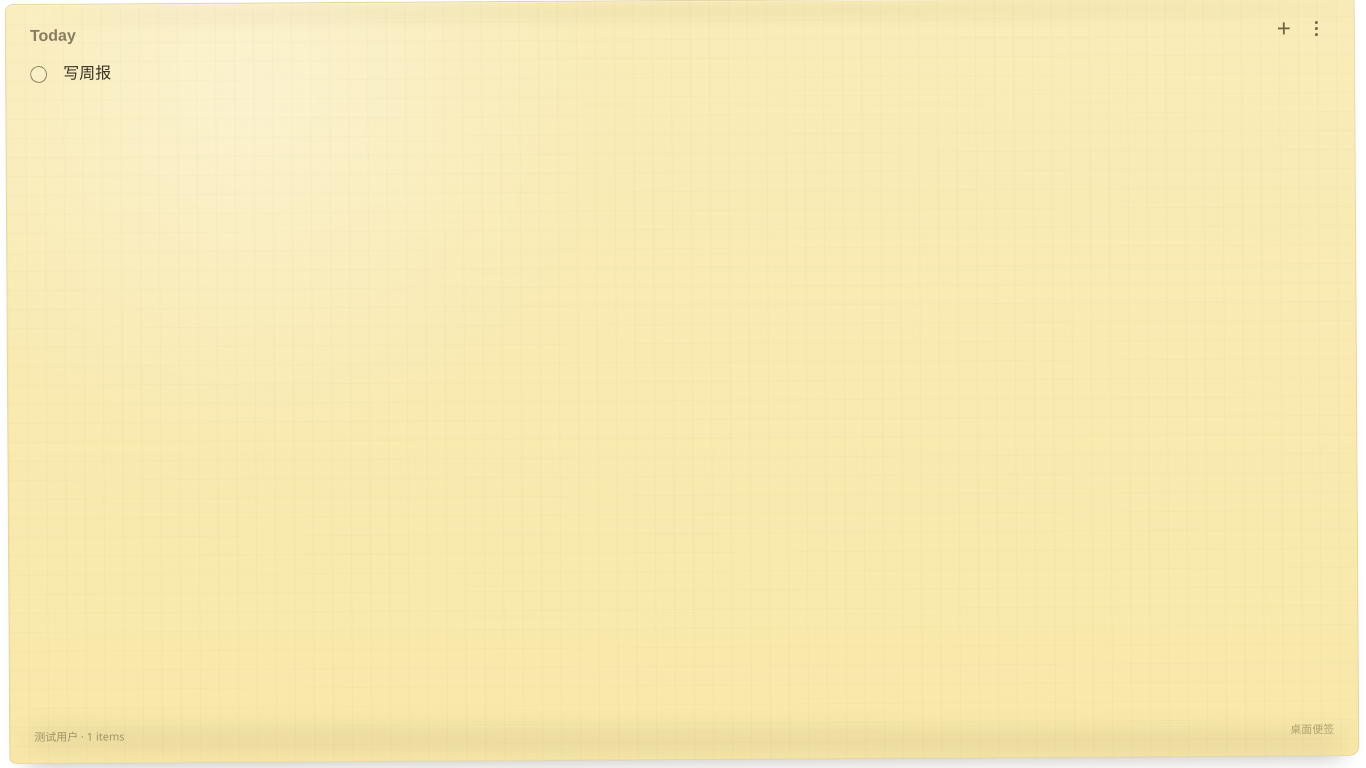
Test: 桌面便签核心交互 › 任务详情默认收起编辑与进度，点击操作按钮后展开
This screenshot has width=1366, height=768.
Click the button with class "task-main": [87, 73] box [63, 55, 1330, 90]
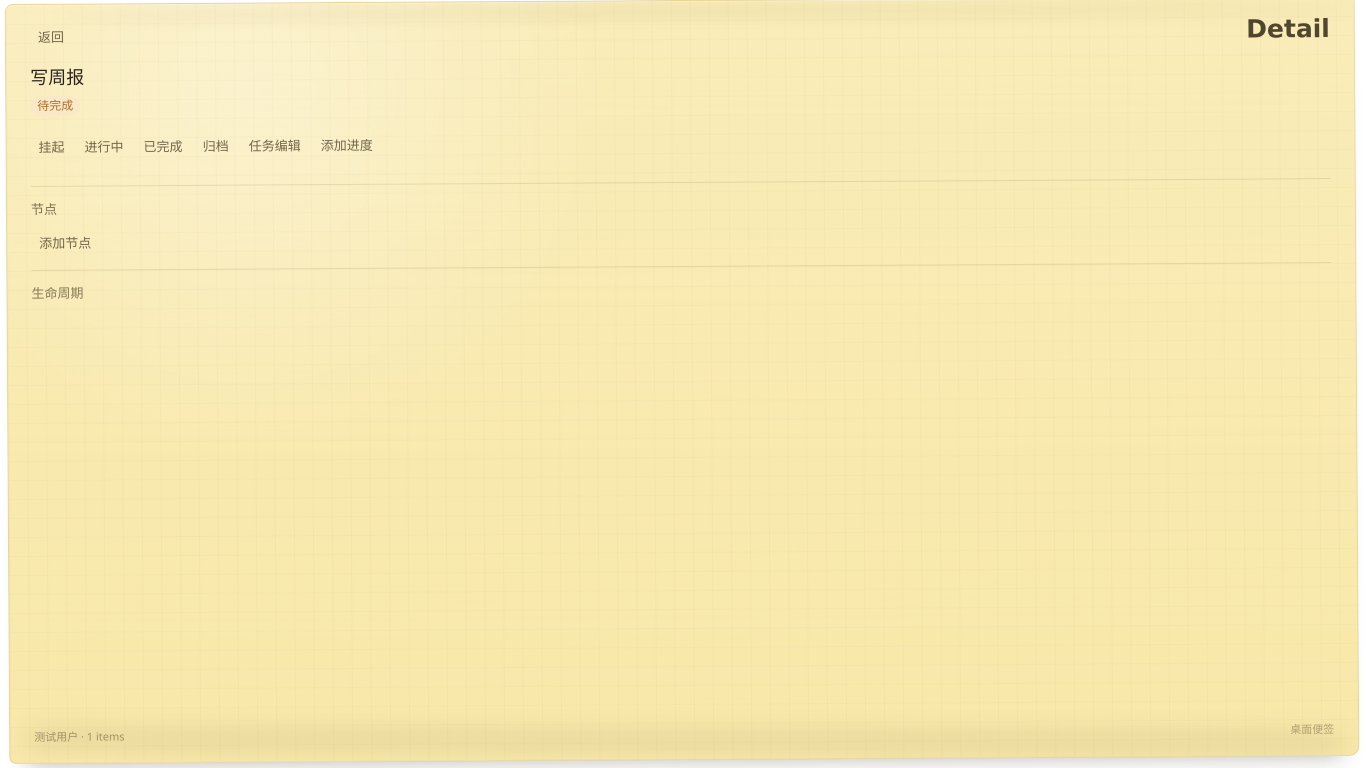
Click the button "任务编辑": [275, 145] box [240, 130, 309, 161]
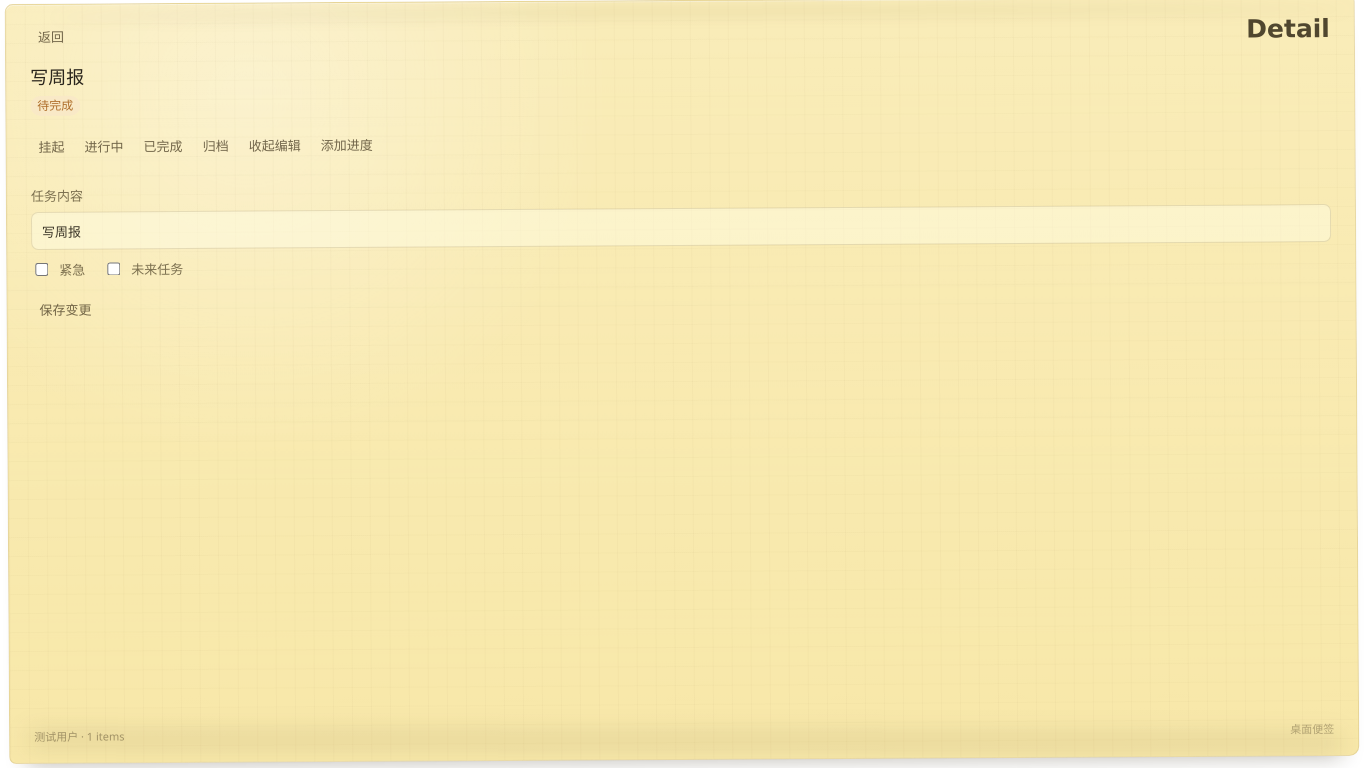
Expected: the field labelled "任务内容" is shown, [31, 204, 1331, 250]
Click the button "添加进度": [347, 145] box [312, 129, 381, 161]
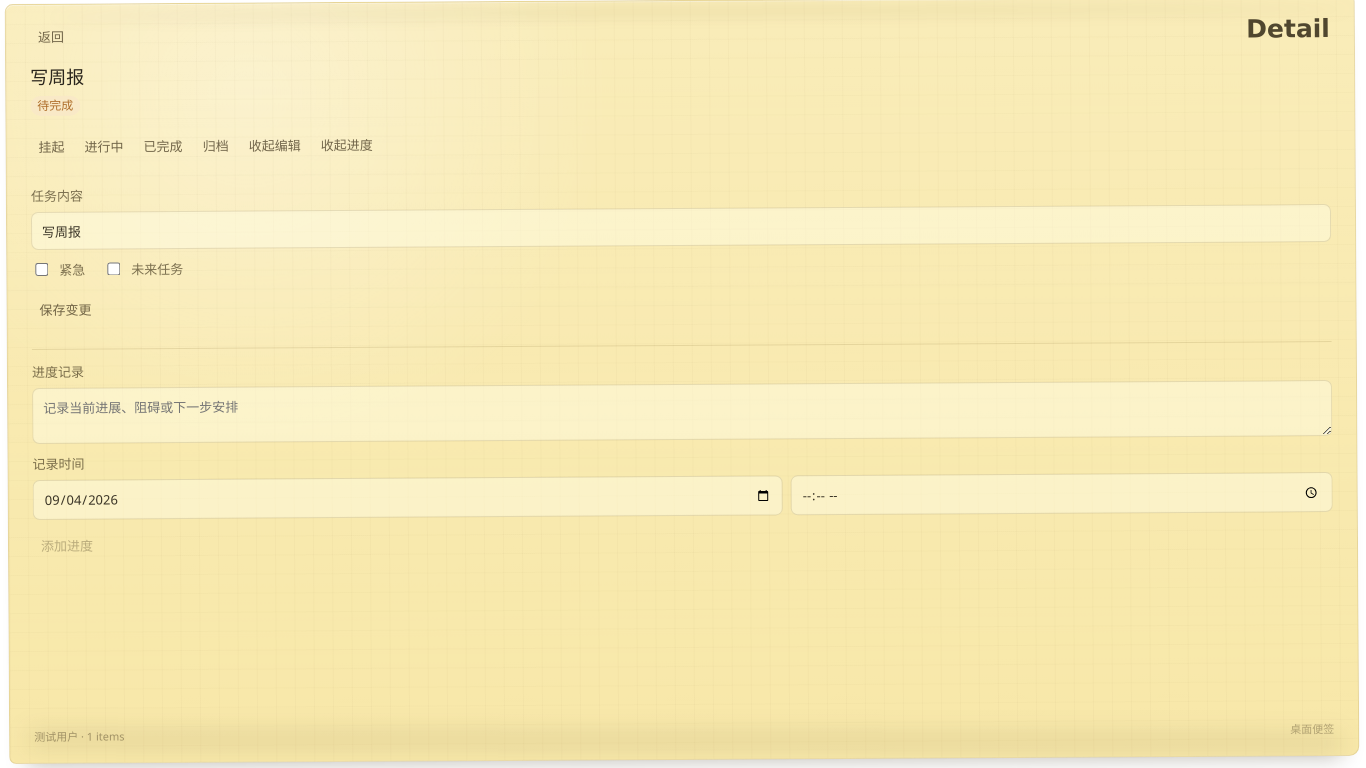
Expected: the text box labelled "进度记录" is shown, [32, 380, 1332, 444]
